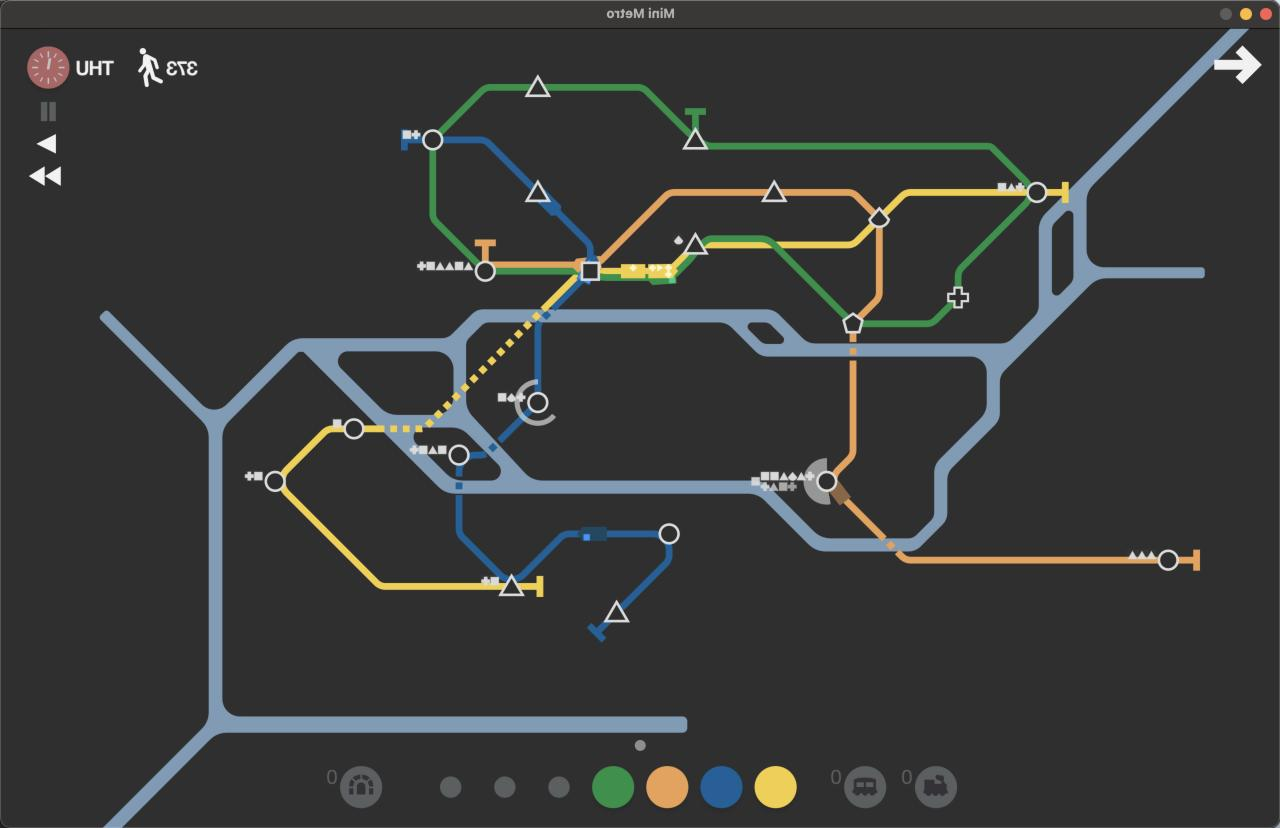BLUE LINE: (516, 530, 656, 581), (455, 468, 508, 582), (532, 281, 585, 389), (443, 137, 534, 192), (621, 543, 672, 610), (469, 409, 533, 459), (543, 201, 593, 259), (588, 620, 612, 642), (401, 129, 420, 151)
DARK GREEN LINE: (706, 143, 1031, 186), (701, 235, 847, 321), (542, 83, 691, 137), (955, 201, 1029, 286), (429, 149, 479, 265), (436, 84, 532, 137), (600, 256, 697, 281), (863, 304, 952, 327), (497, 269, 579, 276), (686, 107, 705, 129)
ORANGE YELLOW LINE: (834, 487, 1156, 565), (600, 189, 769, 266), (834, 334, 856, 474), (779, 189, 873, 212), (857, 228, 881, 317), (490, 259, 584, 271), (1179, 550, 1199, 571), (475, 239, 495, 259)
YELLOW LINE: (365, 275, 577, 433), (283, 488, 503, 591), (884, 188, 1028, 215), (281, 425, 341, 476), (775, 225, 871, 249), (601, 253, 687, 274), (517, 577, 543, 598), (707, 242, 771, 250), (1046, 183, 1069, 203)
